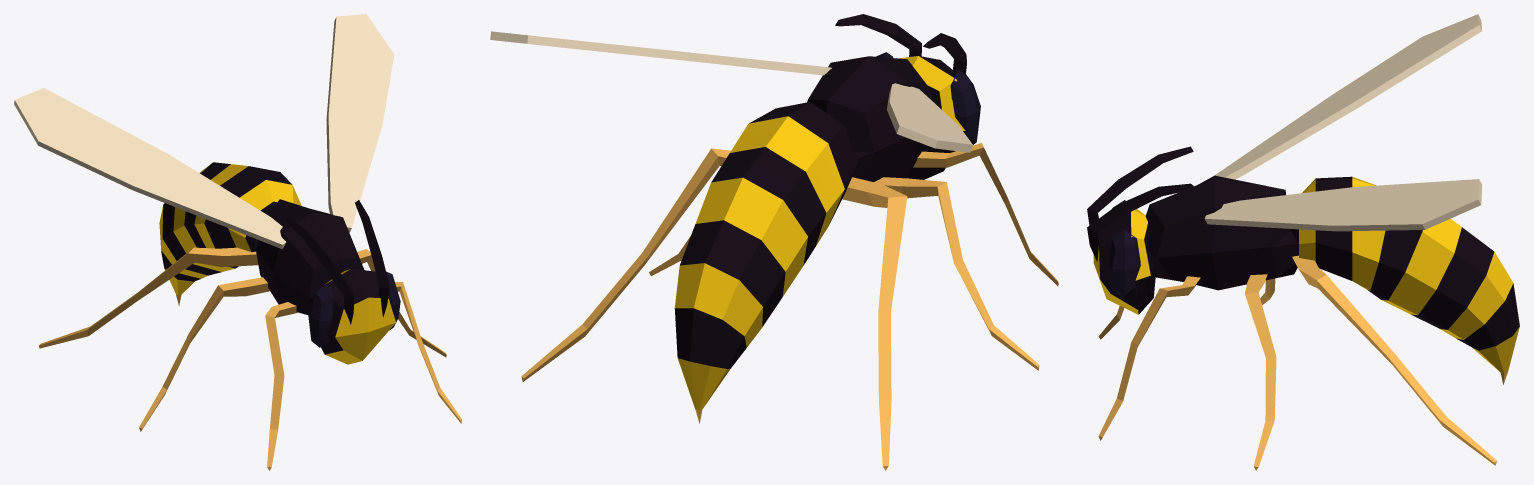
Rendered from Mesh_Wasp.obj.
The picture shows the model from 3 angles, left to right: view 1: azimuth 30°, elevation 25°; view 2: azimuth 150°, elevation 25°; view 3: azimuth 270°, elevation 25°; orthographic projection. The views are drawn at different scales.
Parts seen in each view (by area): view 1: Geo_Wasp; view 2: Geo_Wasp; view 3: Geo_Wasp.
Boxes of the visible parts, x1,y1,x2,y2 form: Geo_Wasp: (14, 14, 461, 470); Geo_Wasp: (490, 14, 1058, 470); Geo_Wasp: (1087, 14, 1519, 470).
Size of the model in its own units: 67.99 by 48.8 by 66.36.
2 materials, 1 textured.
